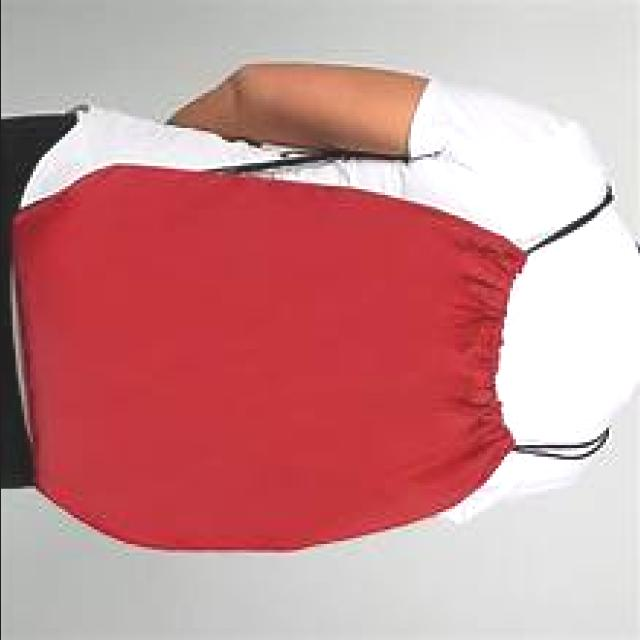backpack: (13, 146, 621, 554)
